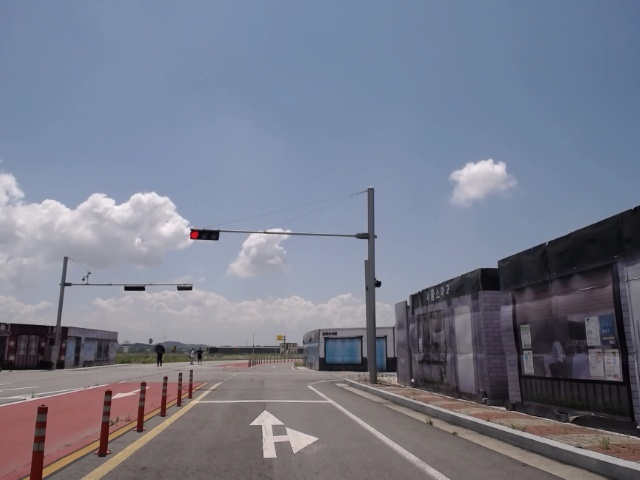red_3: (188, 228, 221, 241)
